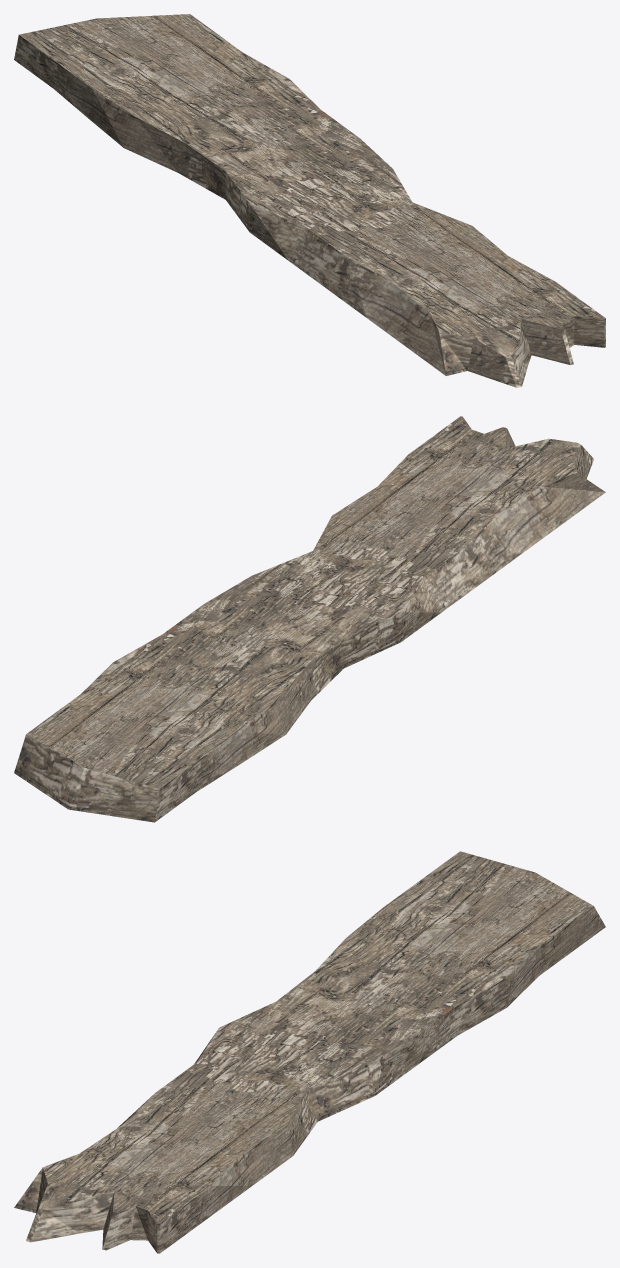
Rendered from Plank_03.FBX.
The picture shows the model from 3 angles, top to bottom: view 1: azimuth 30°, elevation 25°; view 2: azimuth 150°, elevation 25°; view 3: azimuth 330°, elevation 25°; orthographic projection. The views are drawn at different scales.
Parts seen in each view (by area): view 1: Plank_03; view 2: Plank_03; view 3: Plank_03.
Boxes of the visible parts, <box> form: Plank_03: <box>14,14,605,387</box>; Plank_03: <box>14,416,605,822</box>; Plank_03: <box>14,851,605,1253</box>.
Size of the model in its own units: 13.08 by 2.17 by 64.25.
